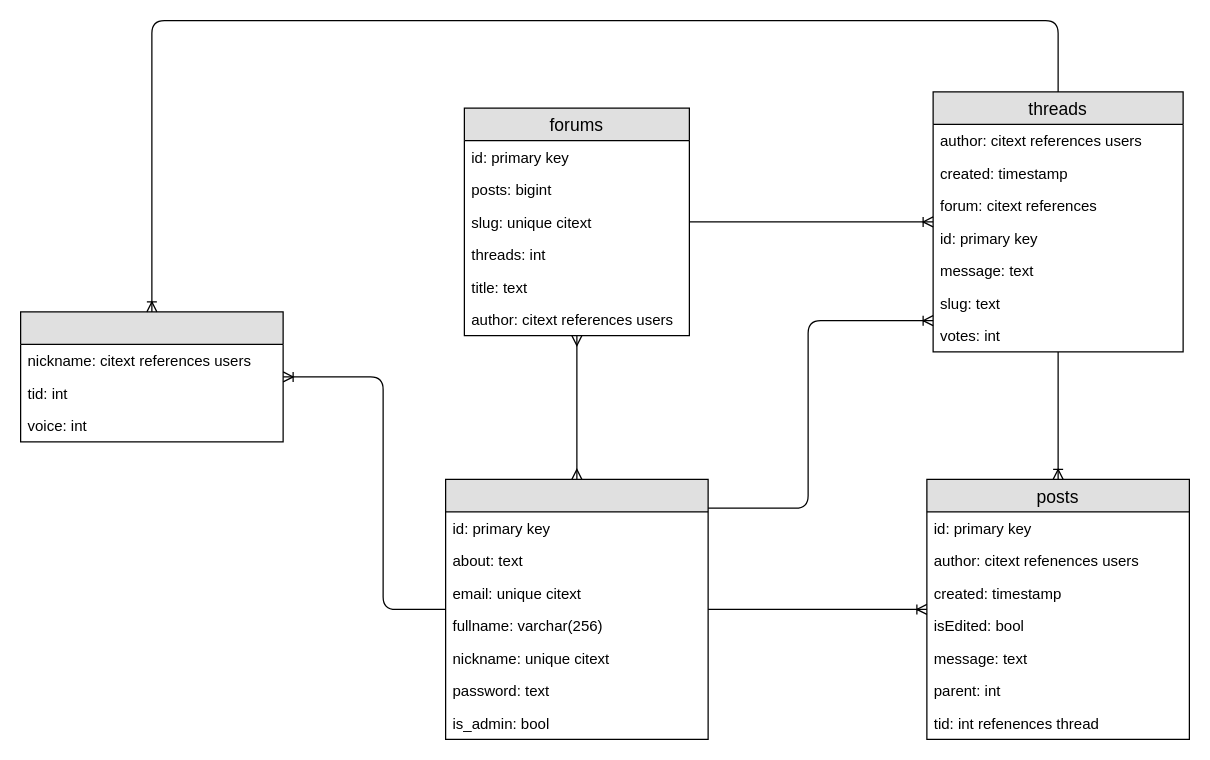
Image size: 1210x760. Some labels were removed from this diagram. Here are the shapes that lost their labels. From the top down, the box of each, then its label:
(19, 311, 283, 442): votes
(444, 478, 708, 739): users
